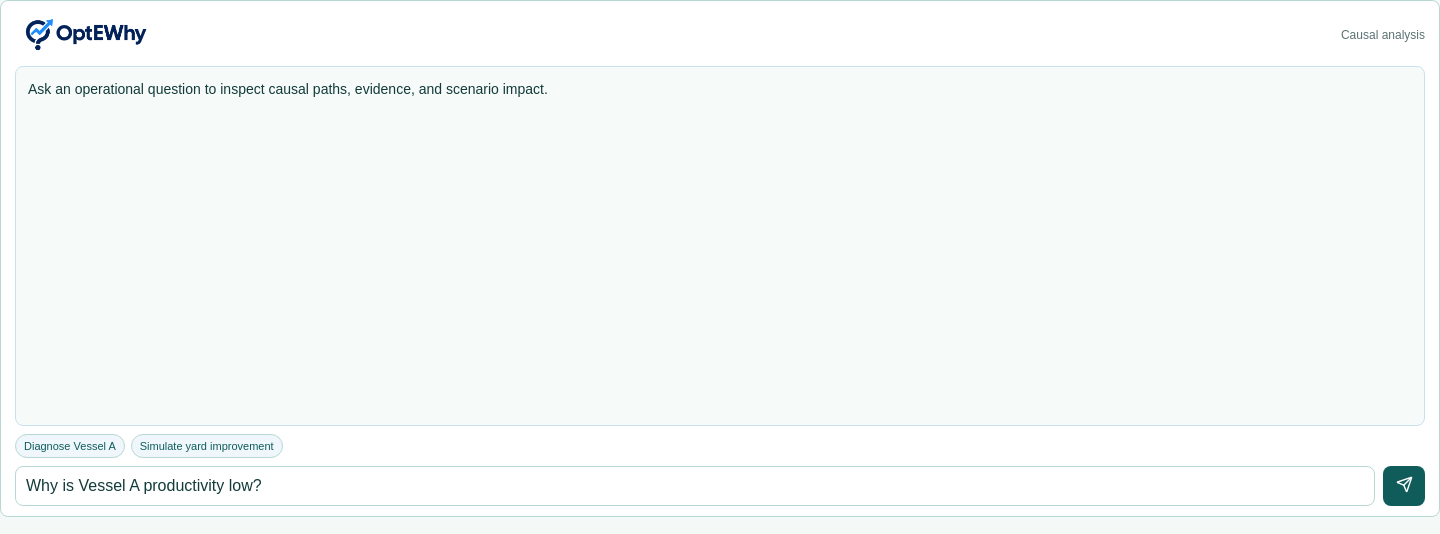
Test: CopilotPanel › shows request errors instead of failing silently
What coordinates should you click on to do the following:
click the button named "Send query"
I would click on:
 (1404, 486)
Its box is [1383, 466, 1425, 506].
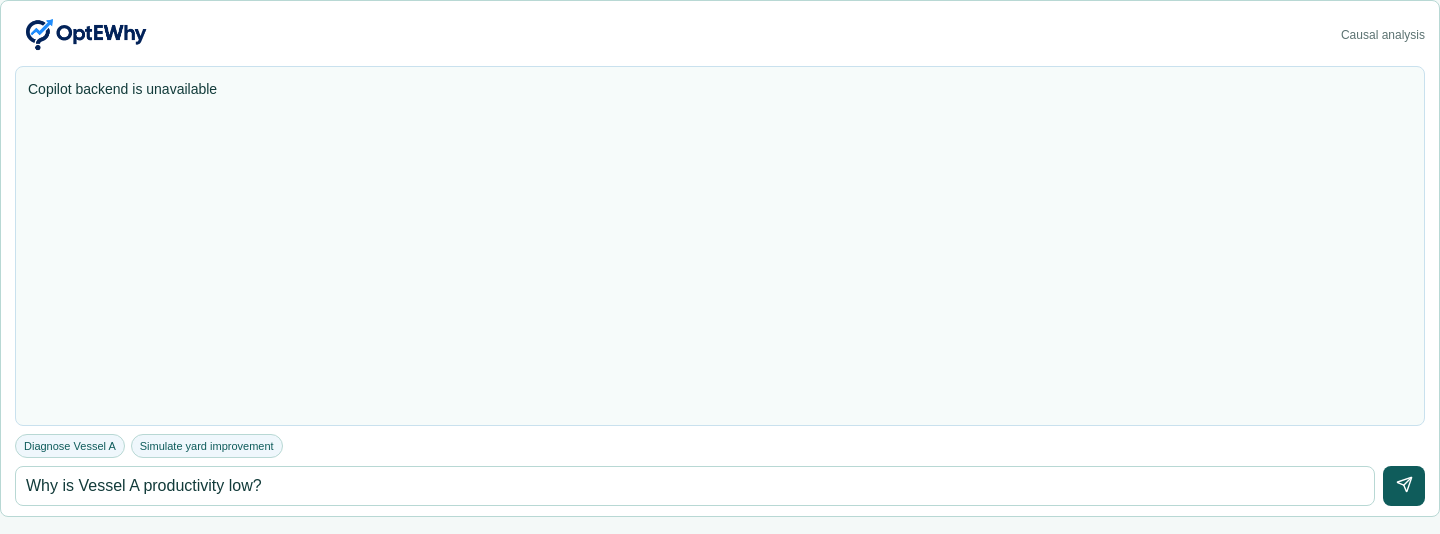
Now the text "Copilot backend is unavailable" is shown, box [28, 81, 217, 97]
